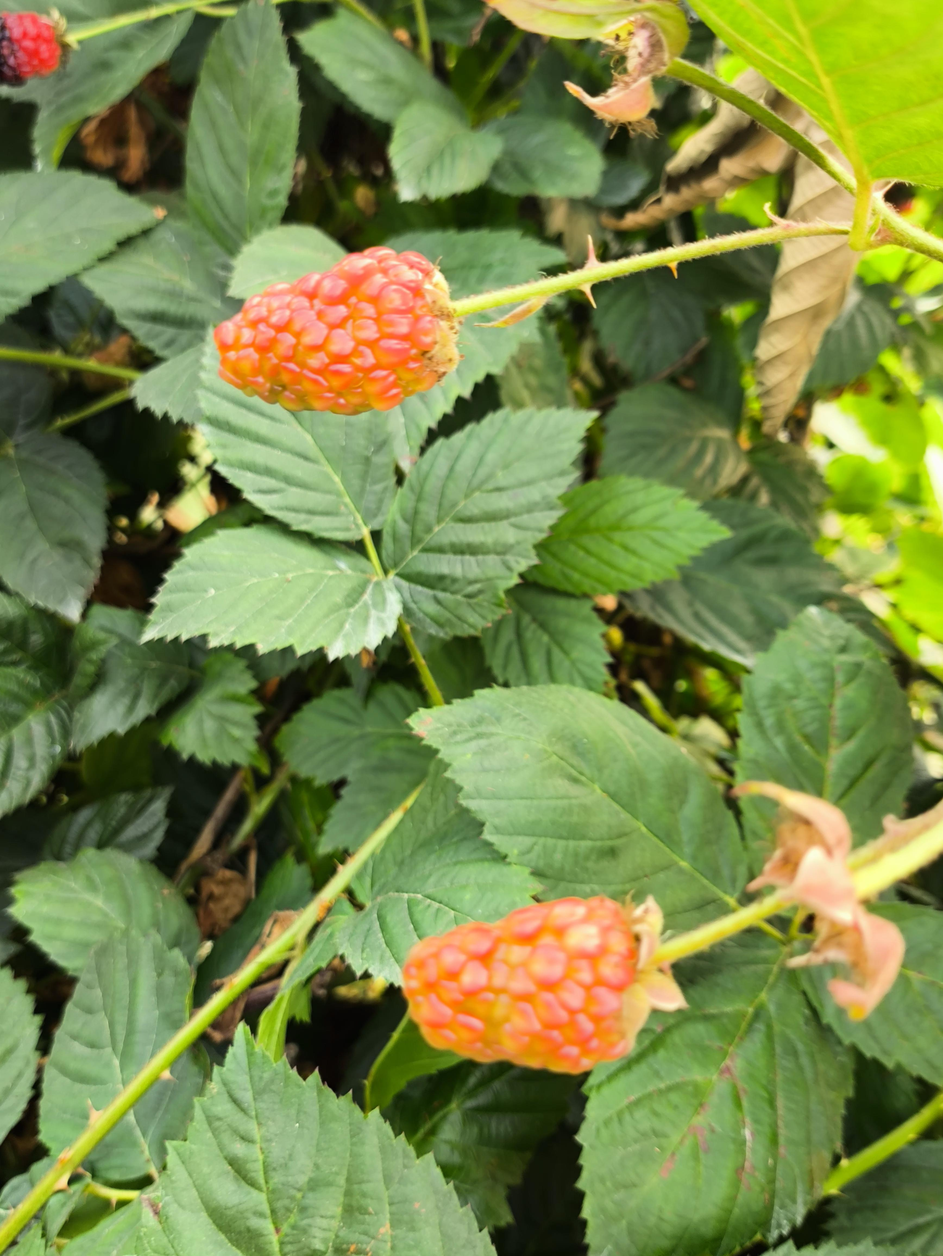naranja: (403, 896, 687, 1073), (214, 246, 460, 415)
